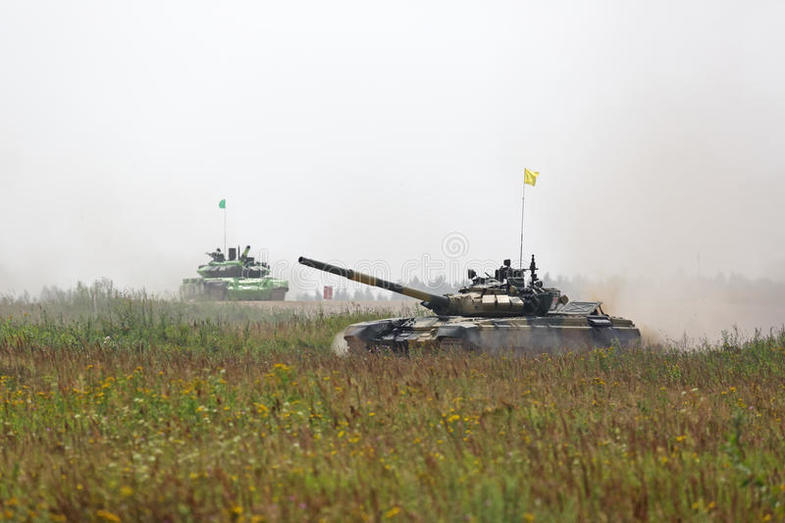t72: (292, 248, 643, 357)
